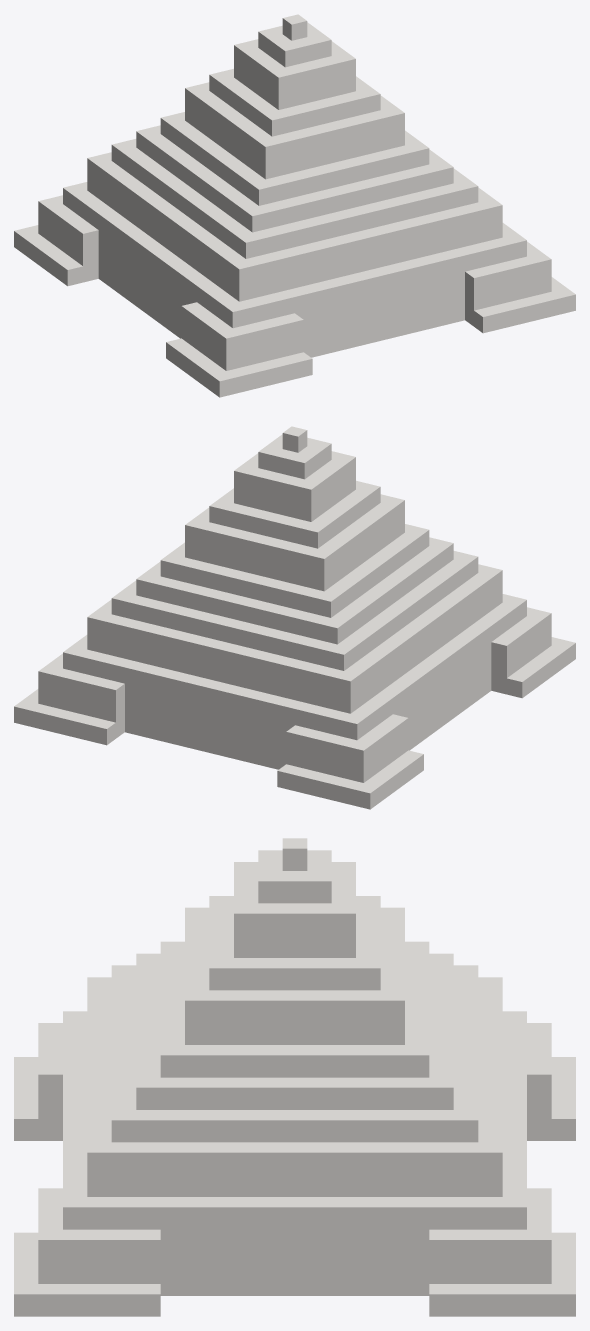
File: TwentyeightModelRoof.fbx
The picture shows the model from 3 angles, top to bottom: view 1: azimuth 30°, elevation 25°; view 2: azimuth 150°, elevation 25°; view 3: azimuth 270°, elevation 25°; orthographic projection. The views are drawn at different scales.
Parts seen in each view (by area): view 1: Box; view 2: Box; view 3: Box.
Boxes of the visible parts, x1,y1,x2,y2 form: Box: [14, 14, 575, 397]; Box: [14, 426, 575, 809]; Box: [14, 838, 575, 1316].
Size of the model in its own units: 23 by 16 by 23.
Materials: 1 (1 with a texture image).
